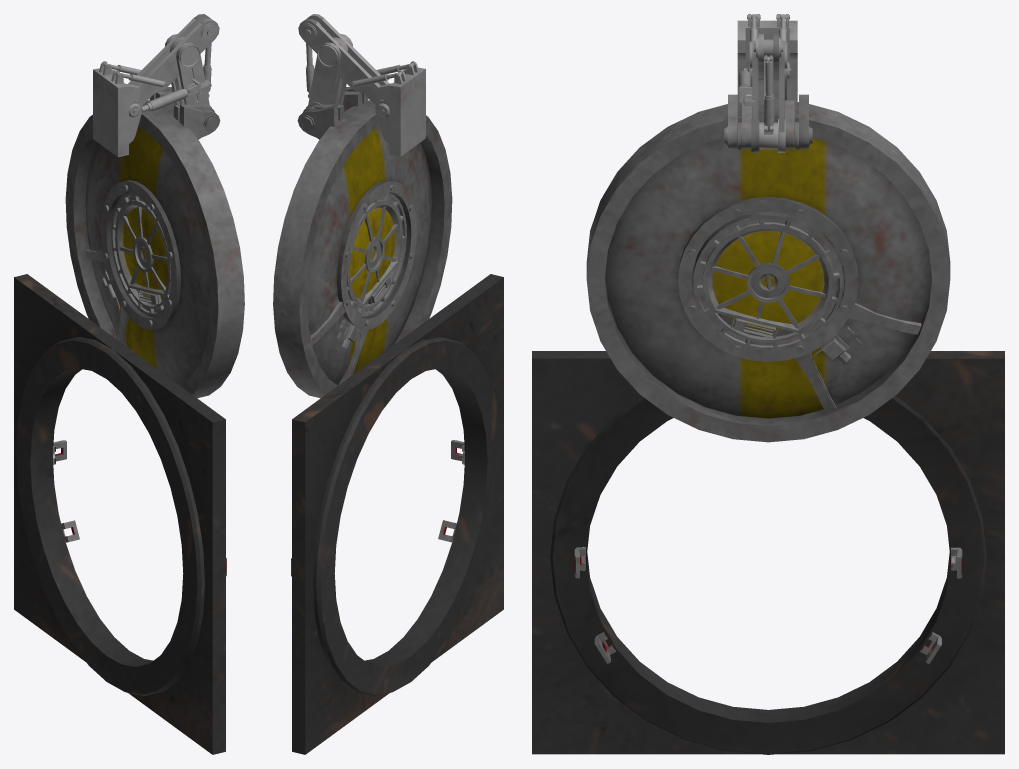
The model's file is transition_seal.obj.
The picture shows the model from 3 angles, left to right: view 1: azimuth 30°, elevation 25°; view 2: azimuth 150°, elevation 25°; view 3: azimuth 270°, elevation 25°; orthographic projection. The views are drawn at different scales.
Parts seen in each view (by area): view 1: door, Circle, frame, door.006, Cube.006, Cylinder.005, Cylinder.001, ring.002, Cylinder.007, Cylinder.008; view 2: door, Circle, frame, door.006, Cube.006, Cylinder.005, Cylinder.001, ring.002, Cylinder.008; view 3: door, frame, Circle, door.003, ring.001, Cube.006, Cylinder.001, Cylinder.005.
Boxes of the visible parts, bbox=[...] form: door: bbox=[65, 87, 244, 398]; Circle: bbox=[16, 337, 204, 695]; frame: bbox=[14, 274, 225, 754]; door.006: bbox=[115, 201, 169, 305]; Cube.006: bbox=[93, 61, 142, 157]; Cylinder.005: bbox=[128, 14, 219, 117]; Cylinder.001: bbox=[165, 34, 211, 108]; ring.002: bbox=[111, 192, 170, 316]; Cylinder.007: bbox=[146, 87, 190, 111]; Cylinder.008: bbox=[117, 65, 167, 87]; door: bbox=[273, 87, 452, 398]; Circle: bbox=[313, 337, 501, 695]; frame: bbox=[292, 274, 503, 754]; door.006: bbox=[348, 201, 402, 306]; Cube.006: bbox=[375, 61, 425, 156]; Cylinder.005: bbox=[298, 14, 389, 117]; Cylinder.001: bbox=[306, 34, 352, 108]; ring.002: bbox=[347, 192, 406, 316]; Cylinder.008: bbox=[350, 64, 400, 86]; door: bbox=[586, 94, 950, 442]; frame: bbox=[532, 351, 1004, 754]; Circle: bbox=[550, 396, 986, 754]; door.003: bbox=[704, 225, 832, 338]; ring.001: bbox=[693, 211, 843, 350]; Cube.006: bbox=[737, 14, 797, 101]; Cylinder.001: bbox=[740, 40, 787, 152]; Cylinder.005: bbox=[744, 33, 790, 80].
Size of the model in its own units: 8.32 by 46.41 by 26.
